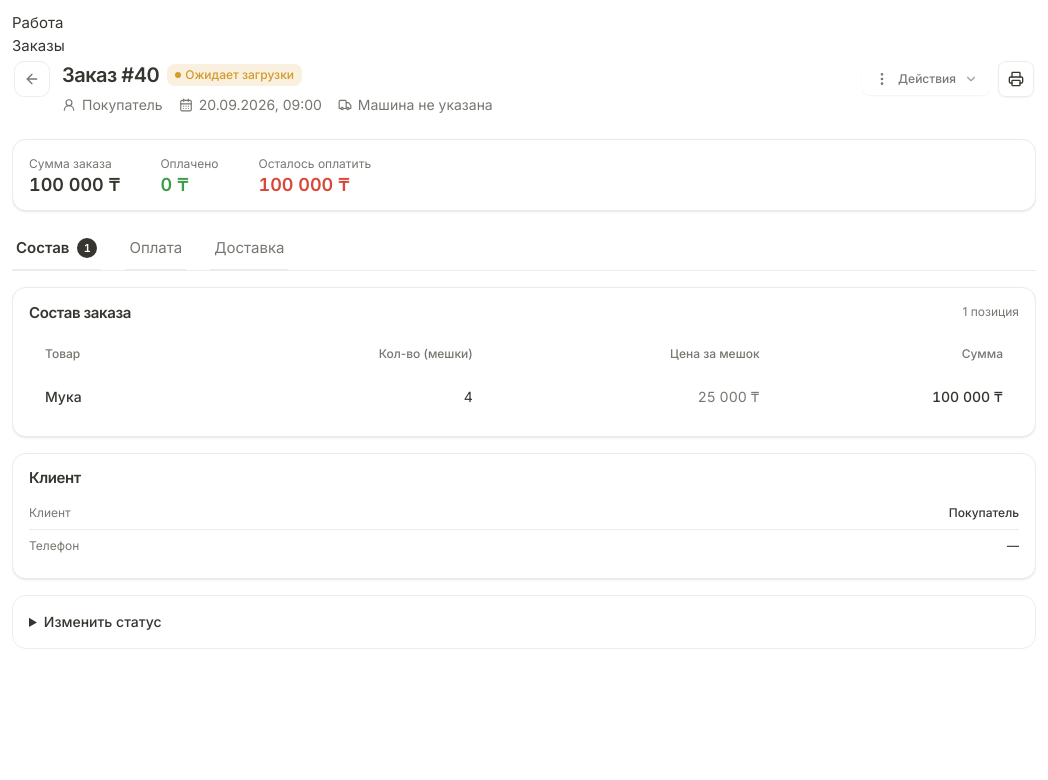
Scenario: takes a prepayment before shipment only with money at the till
Expected: the heading "Заказ #40" is shown, [62,61,159,89]
Click the tab "Оплата" at {"x": 156, "y": 249}, box [125,227,186,271]
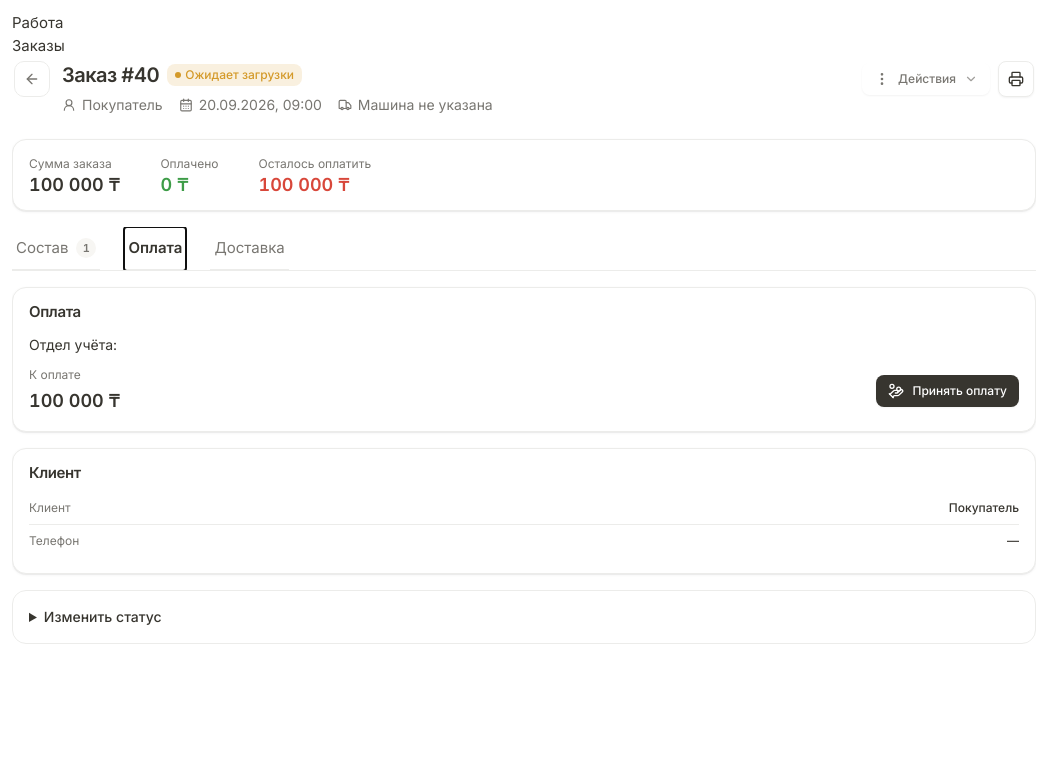
Expected: the button "Принять оплату" is shown, [876,375,1019,407]
